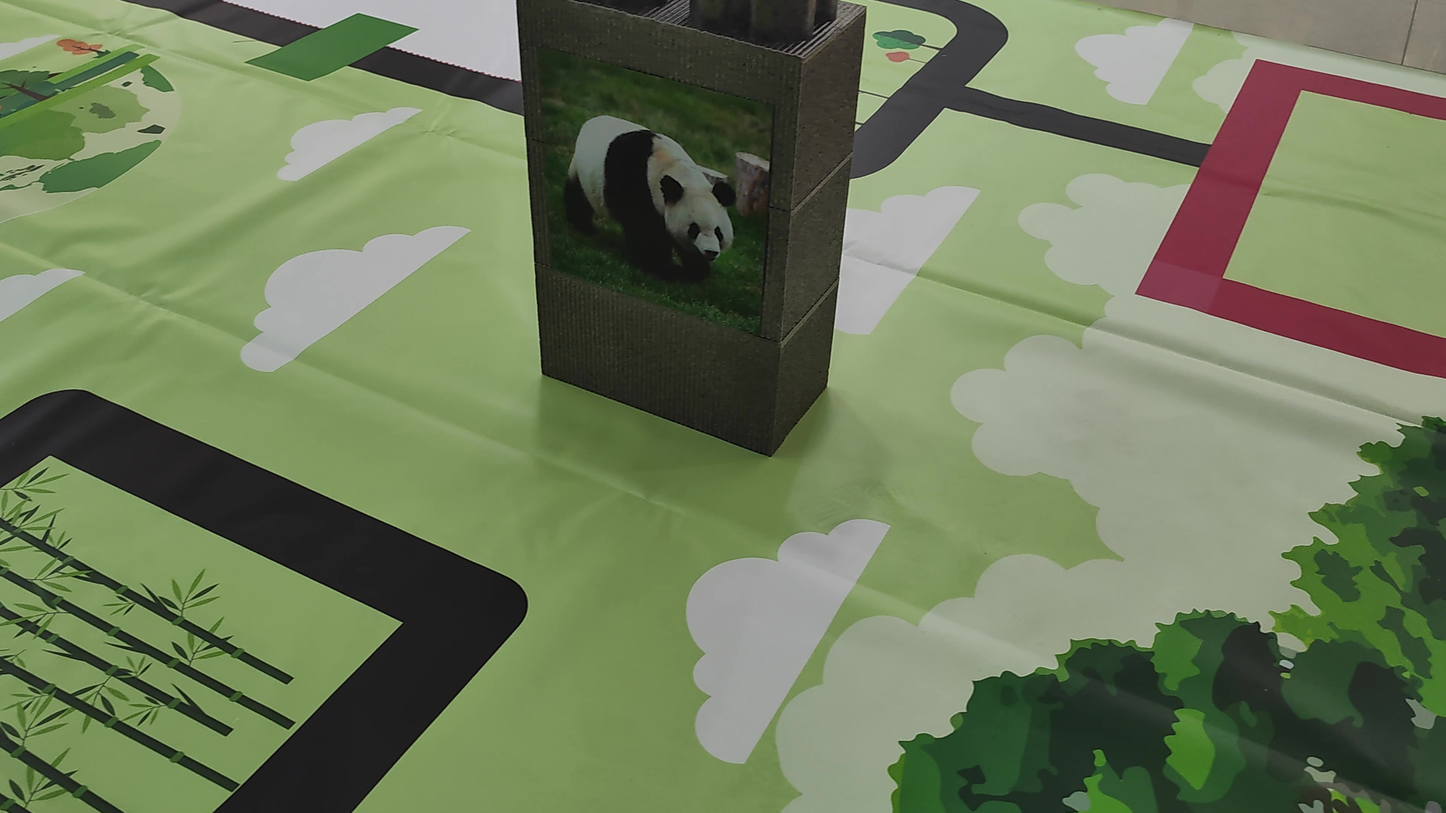panda: (545, 89, 768, 277)
